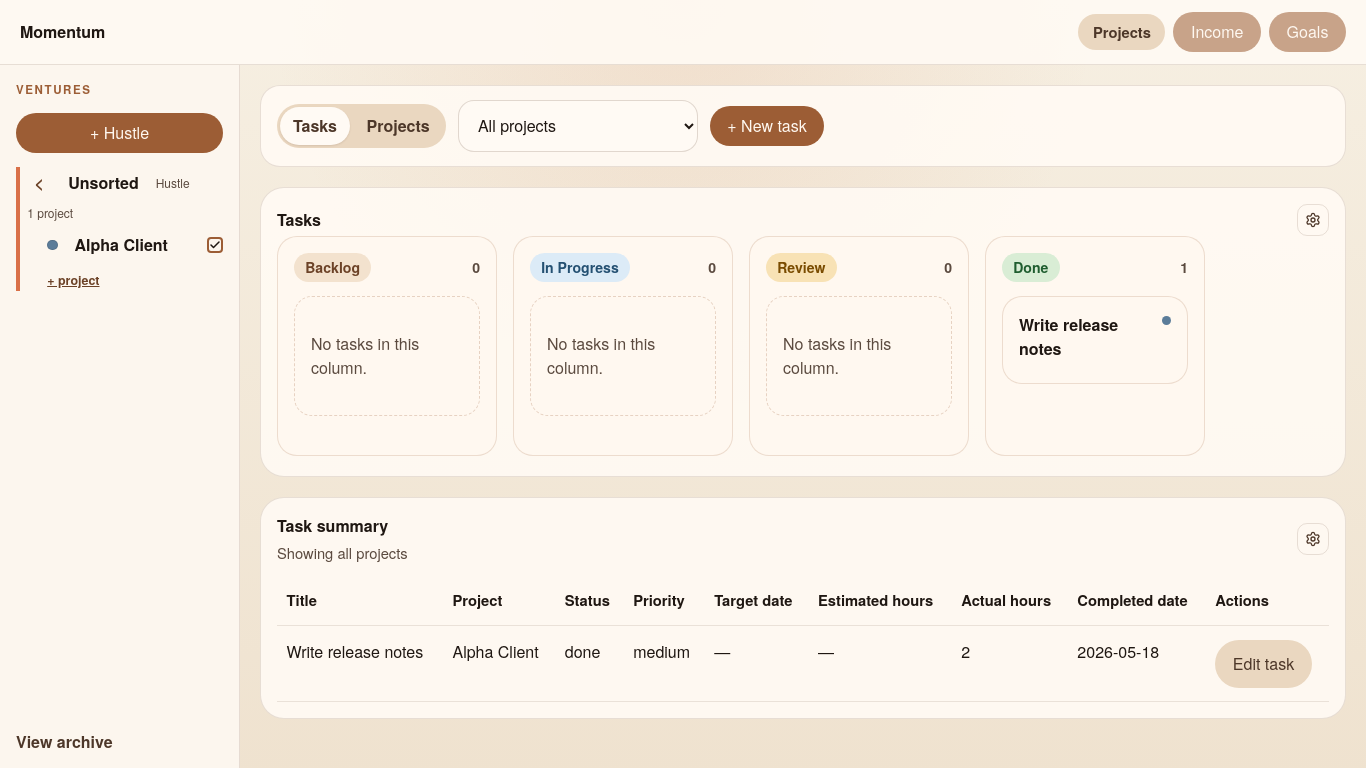
Task modal: time logs, chrome, and archive affordance › blur and close save with cancel discard › discards unsaved edits when Cancel is clicked
The width and height of the screenshot is (1366, 768).
Click the button "Edit task": (1264, 664) [1215,640,1312,688]
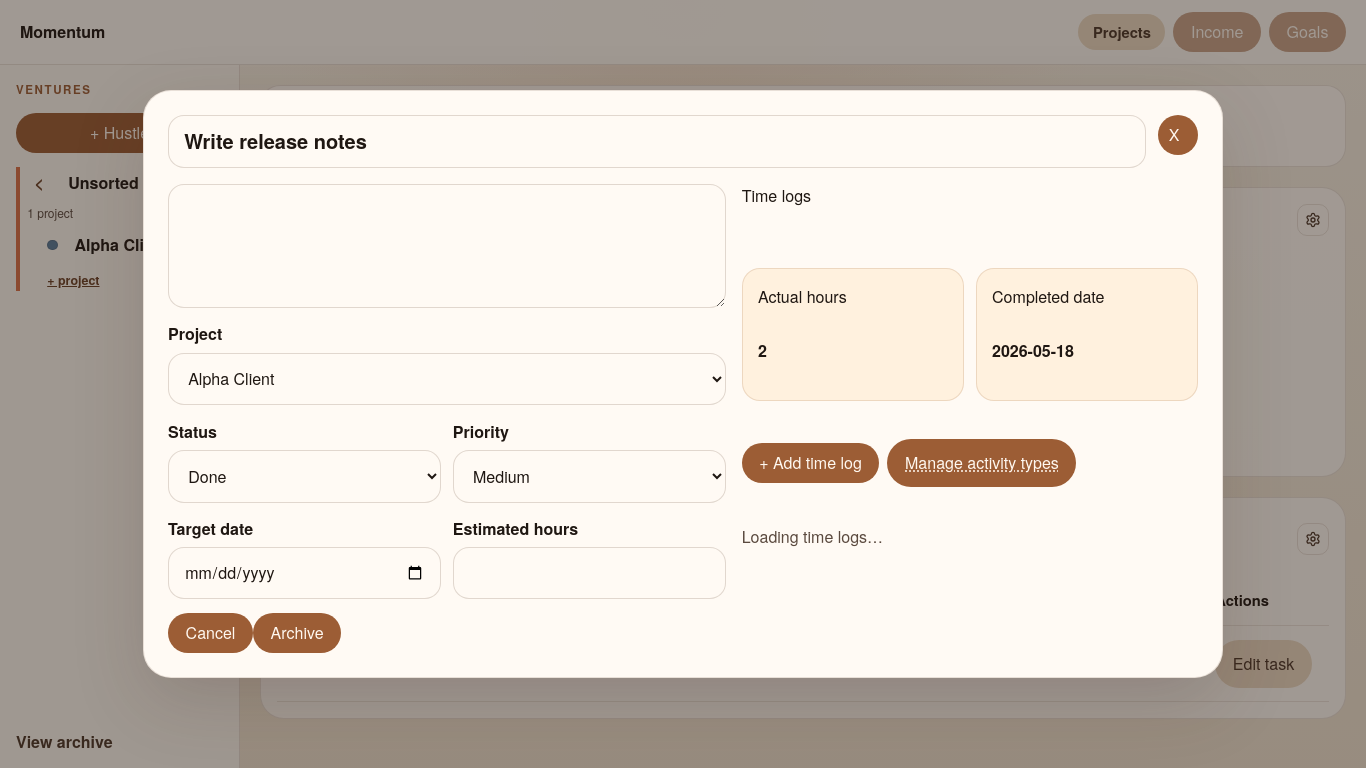
Clear the heading "Write release notes": (657, 141) [168,115,1146,168]
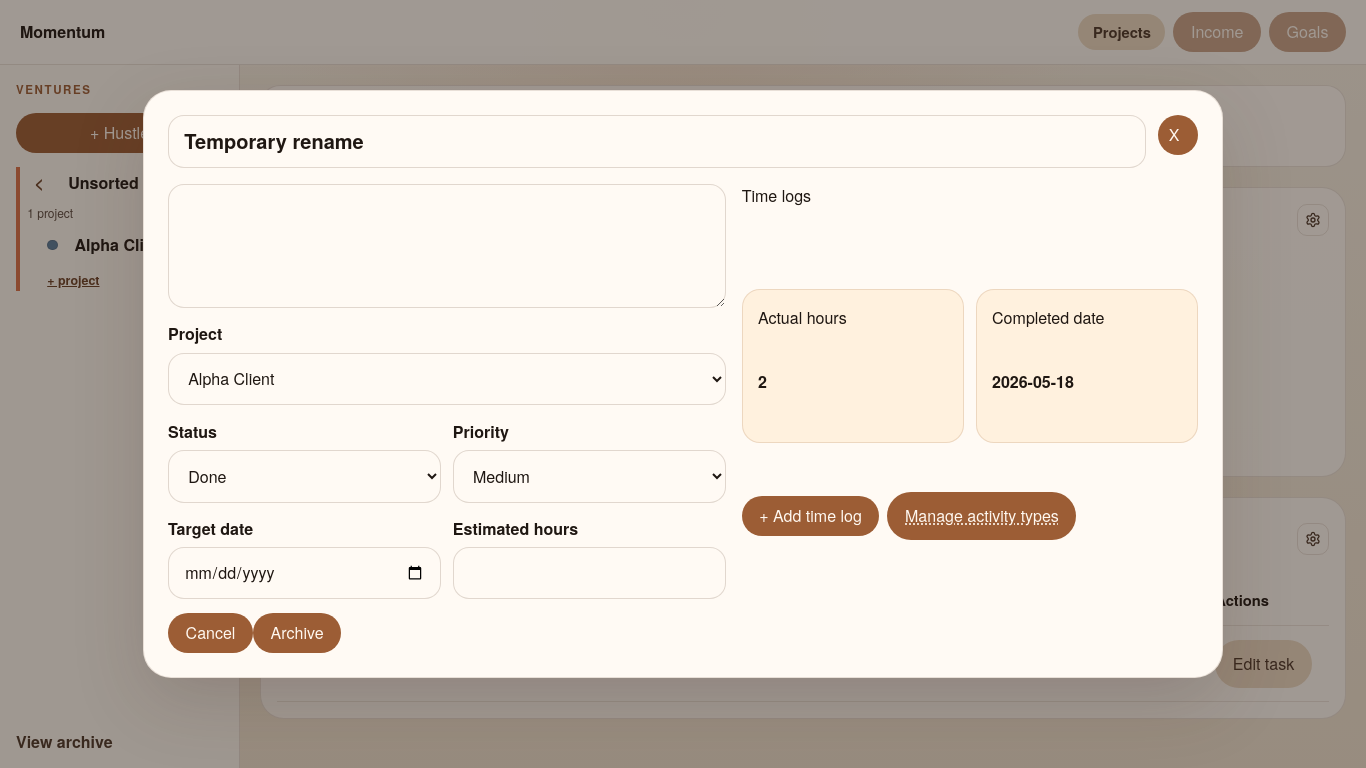
Click the button "Cancel": (210, 633) [168,613,253,653]
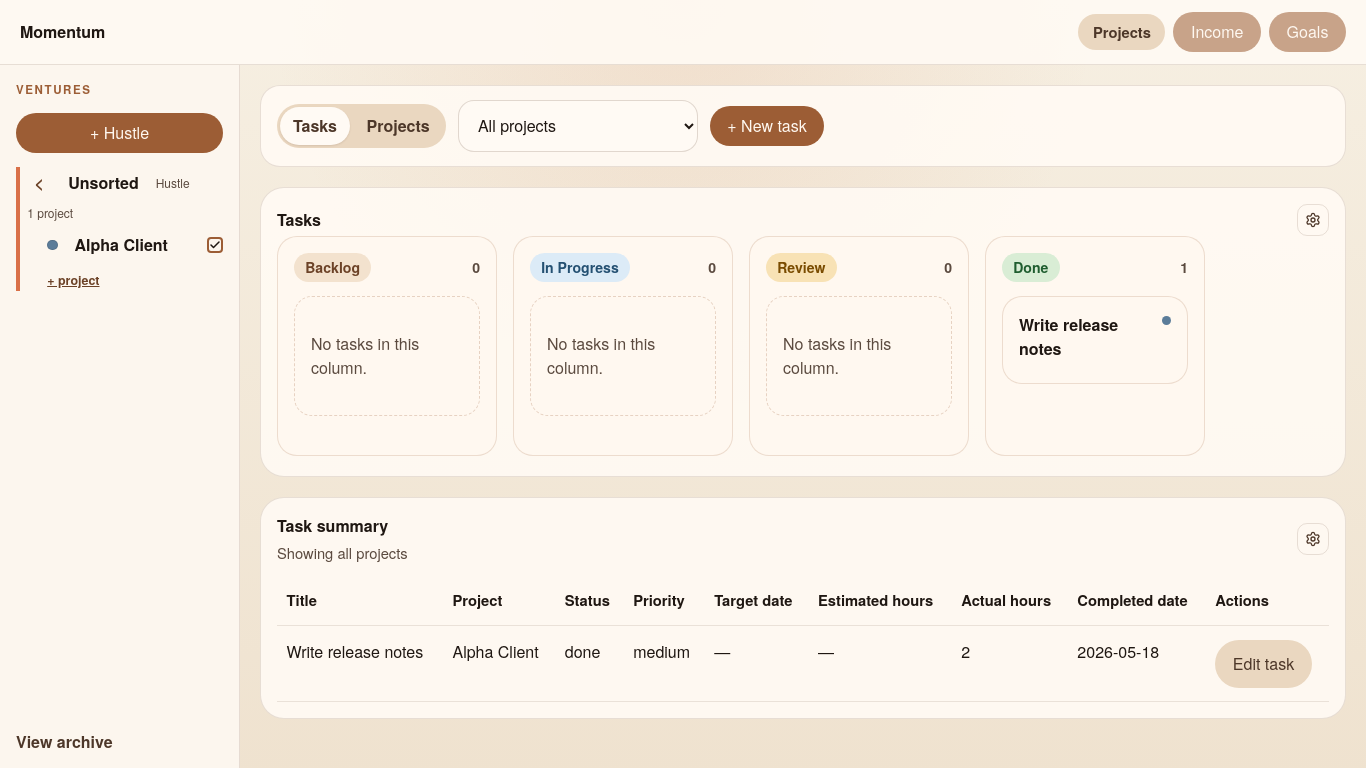
Expected: the dialog is gone
Click the button "Edit task": (1264, 664) [1215,640,1312,688]
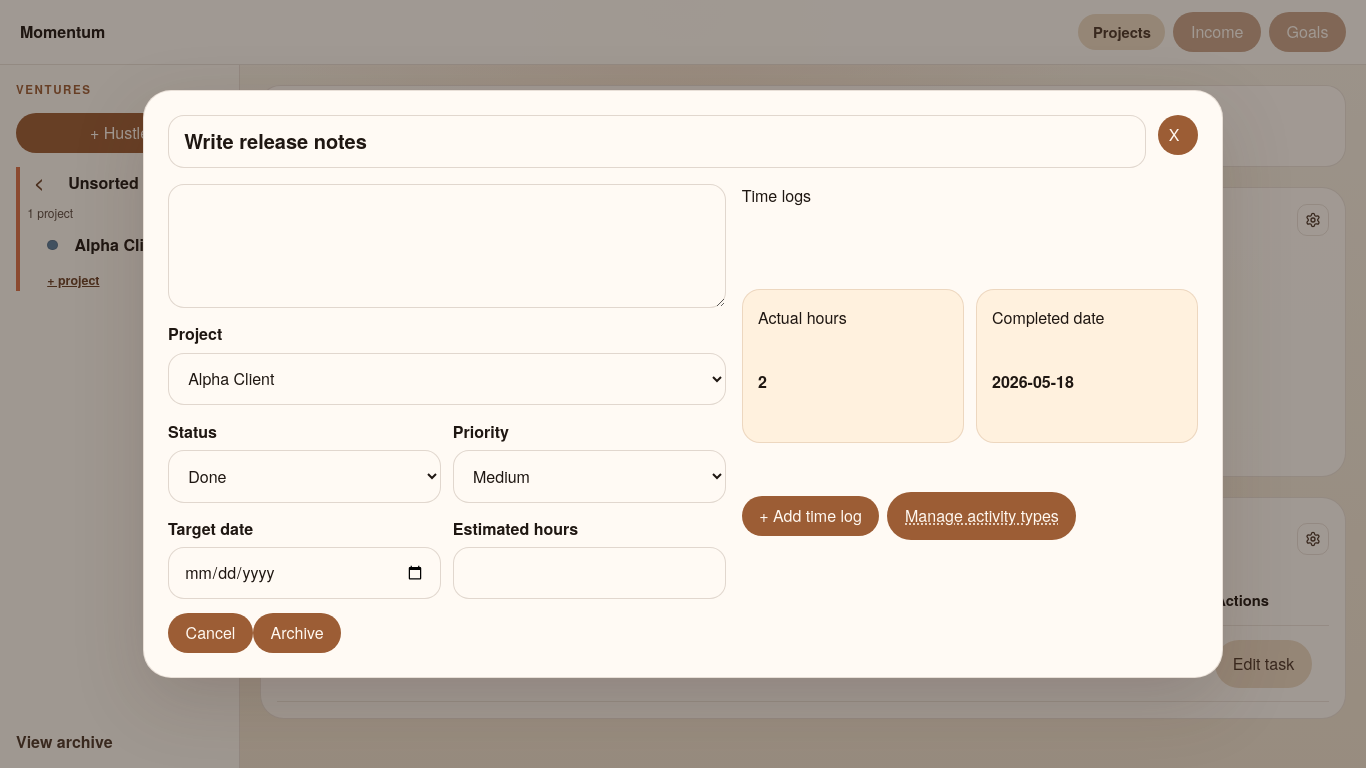
Expected: the heading "Temporary rename" is not shown
Expected: the heading "Write release notes" is shown, [168,115,1146,168]
